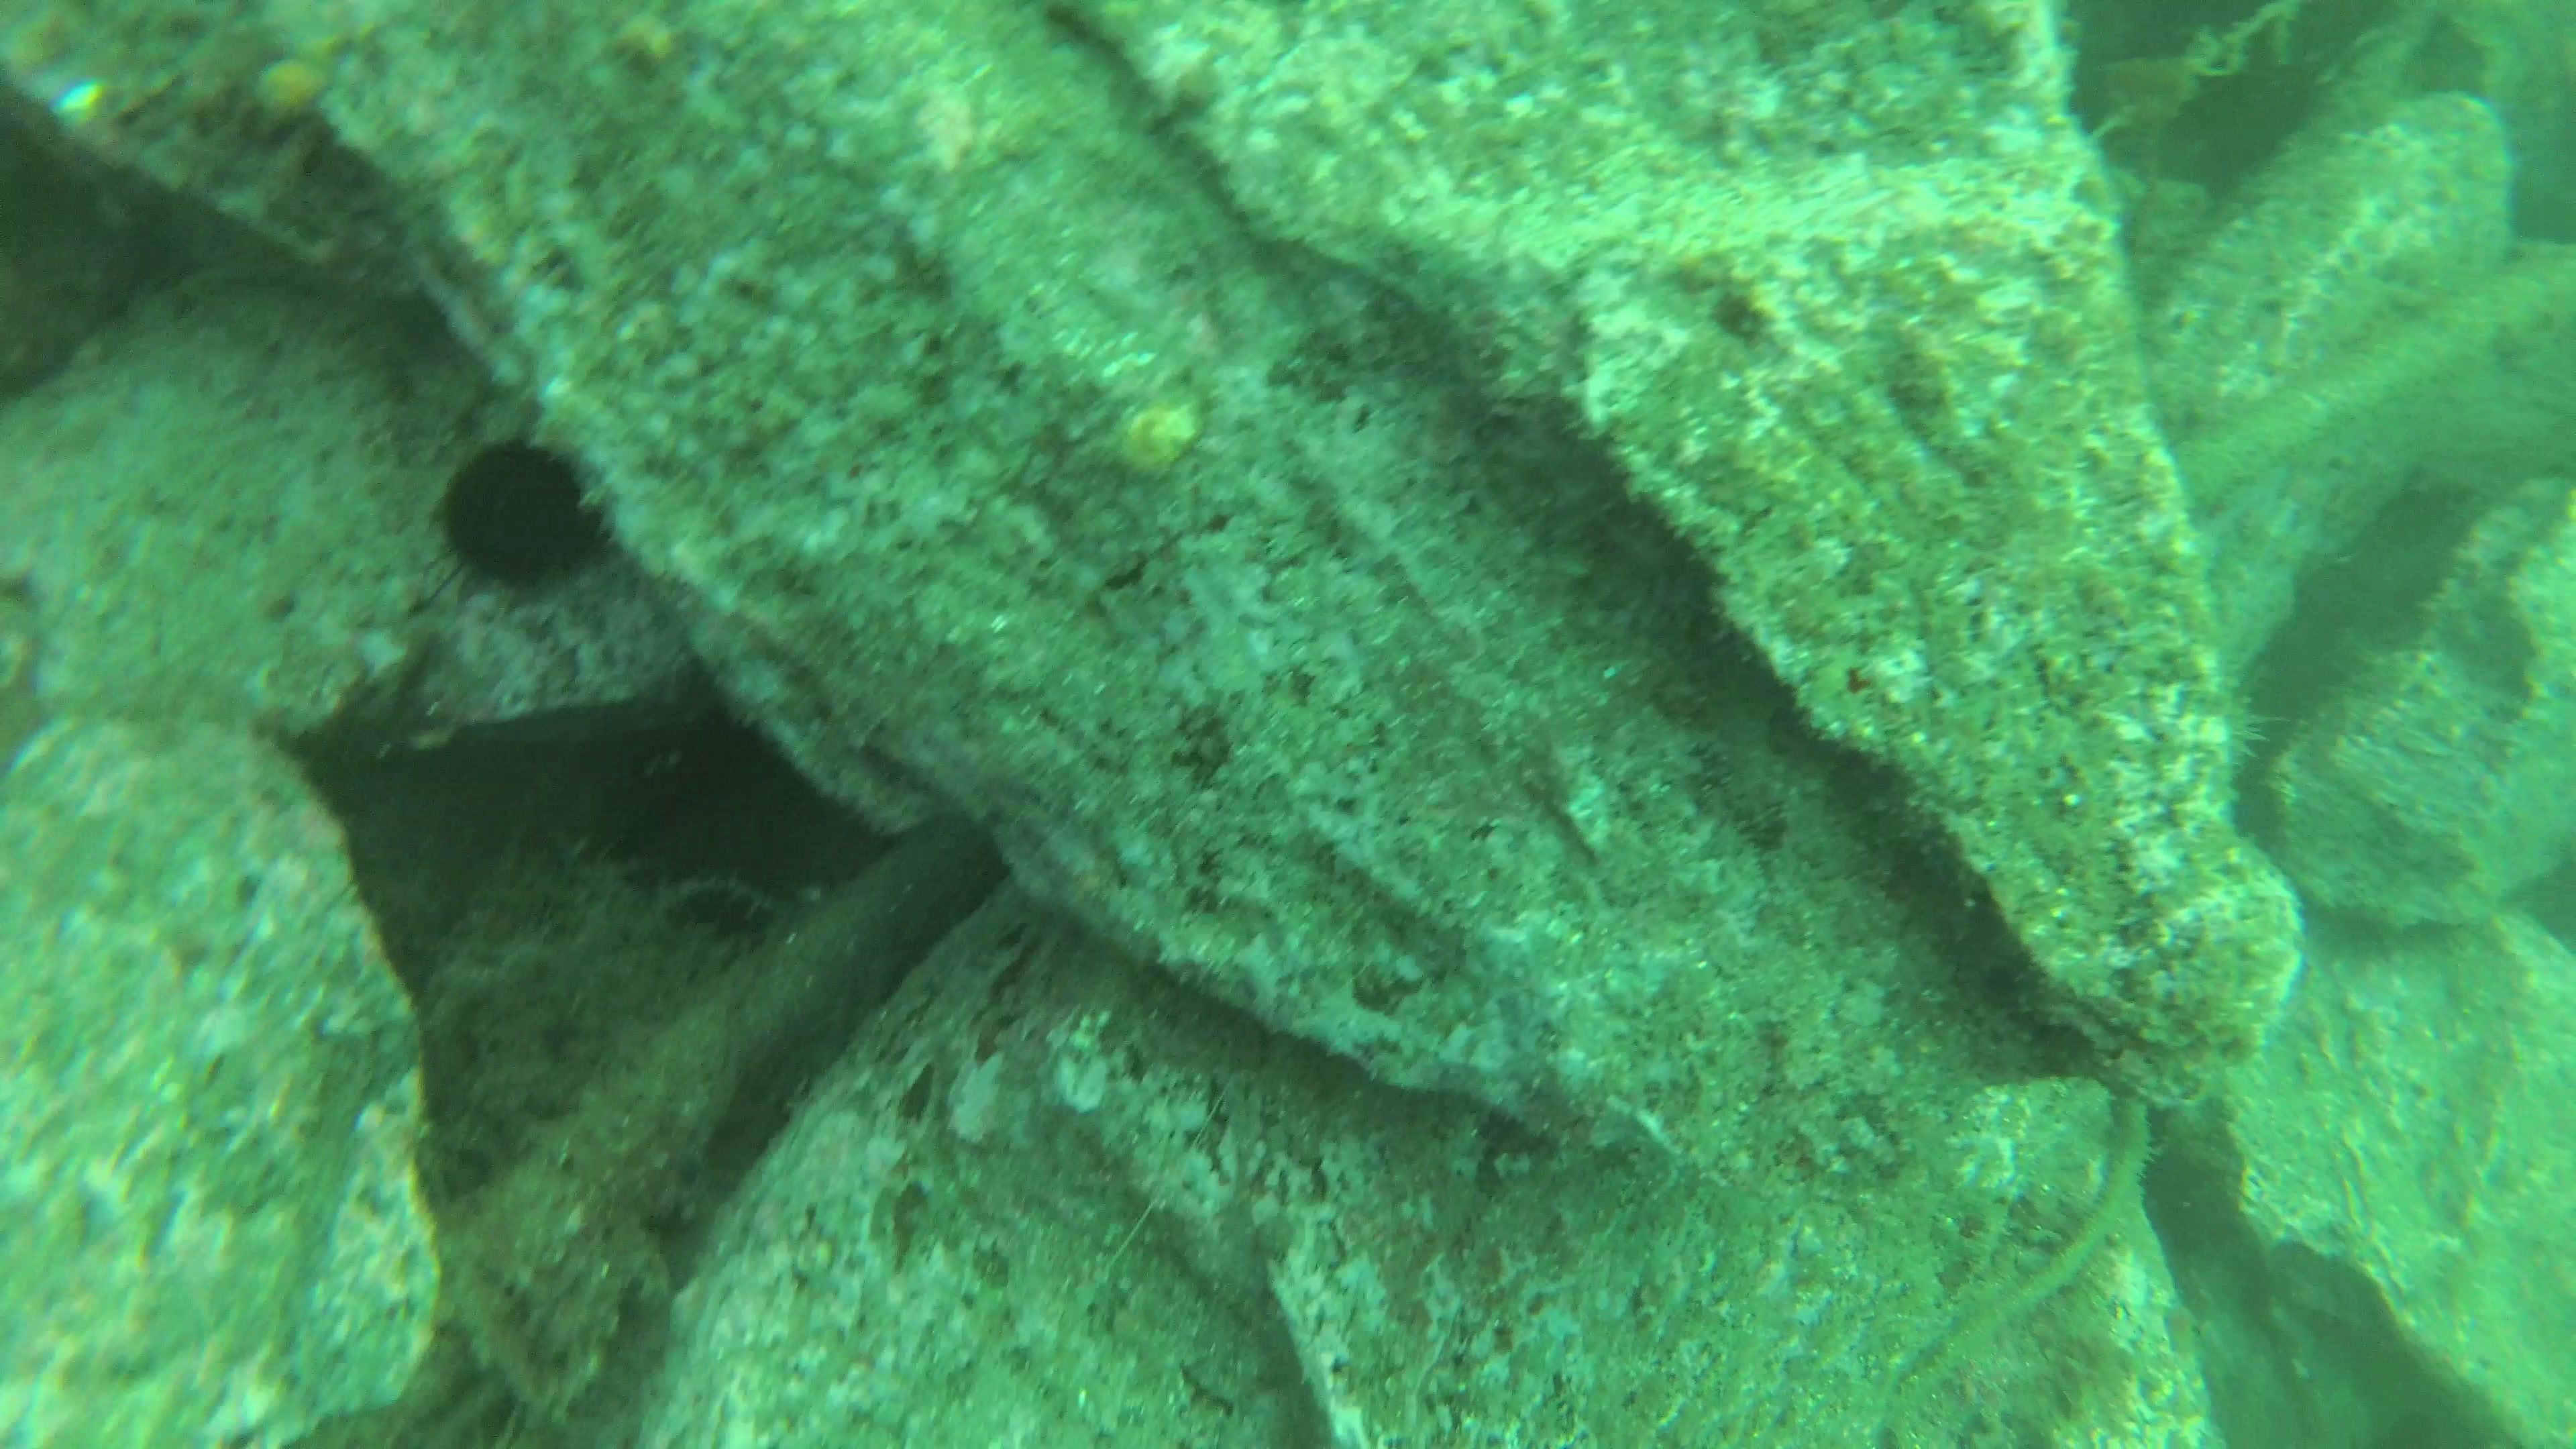echinus: (410, 432, 628, 600)
